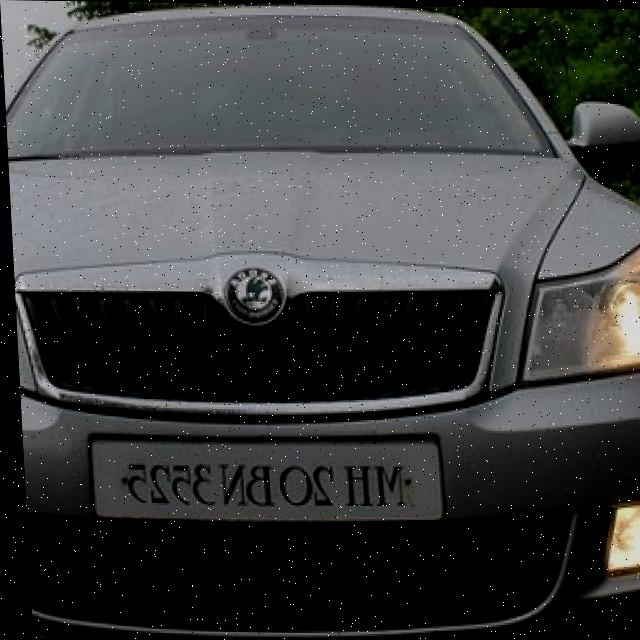plate: (82, 427, 442, 526)
